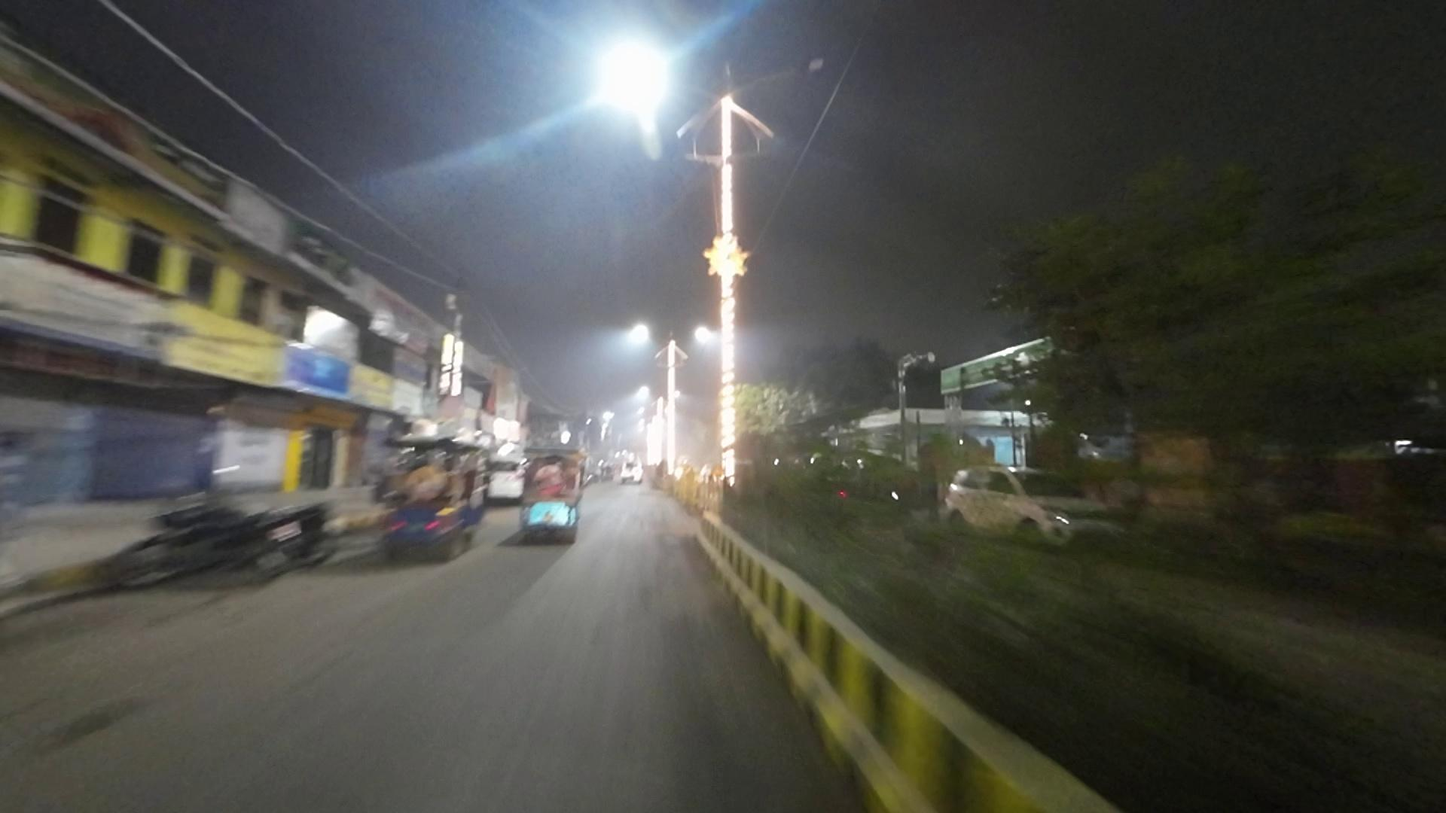streetlight: (744, 51, 832, 100)
